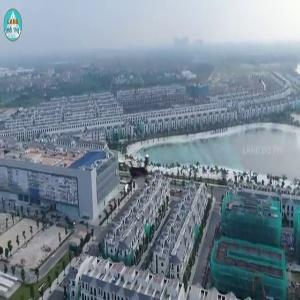drone: (116, 149, 167, 200)
